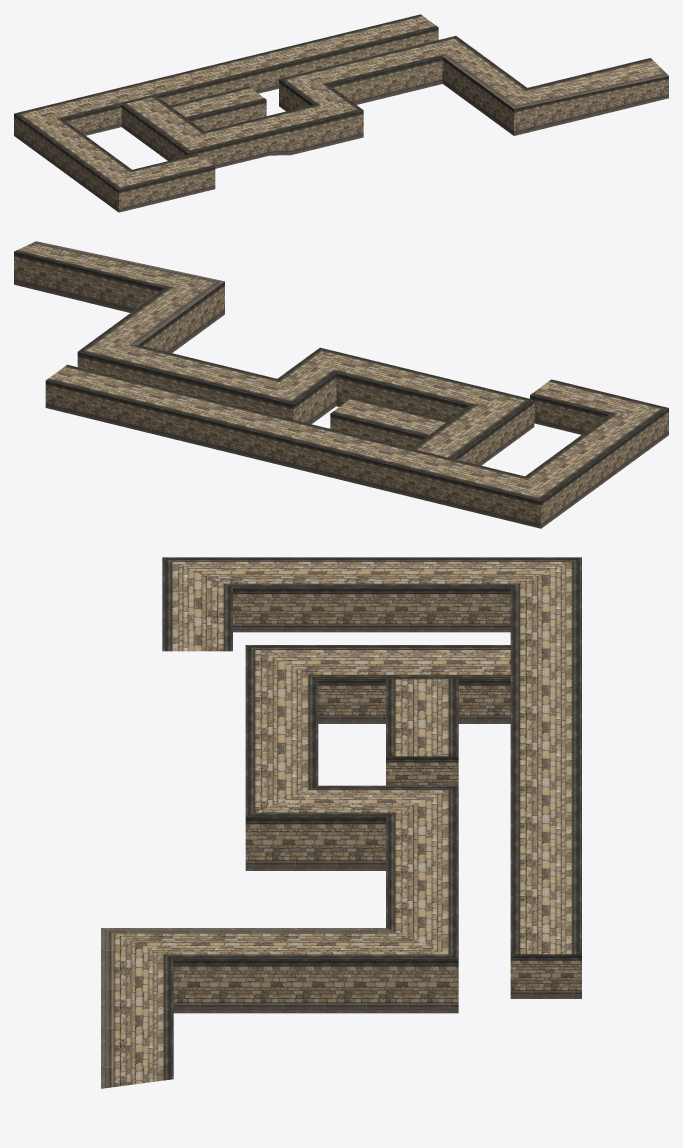
Rendered from Old_PhoenixCastle_Hallway_wall01.FBX.
The picture shows the model from 3 angles, top to bottom: view 1: azimuth 30°, elevation 25°; view 2: azimuth 150°, elevation 25°; view 3: azimuth 270°, elevation 25°; orthographic projection. The views are drawn at different scales.
Visible parts, largest first — view 1: Object011; view 2: Object011; view 3: Object011.
Part boxes in pixels (x1,y1,x2,y2): Object011: (14,14,668,212); Object011: (14,241,668,528); Object011: (101,557,581,1088).
Bounding box in the file's own units: 11863 × 576 × 4622.
2 materials, 2 textured.
